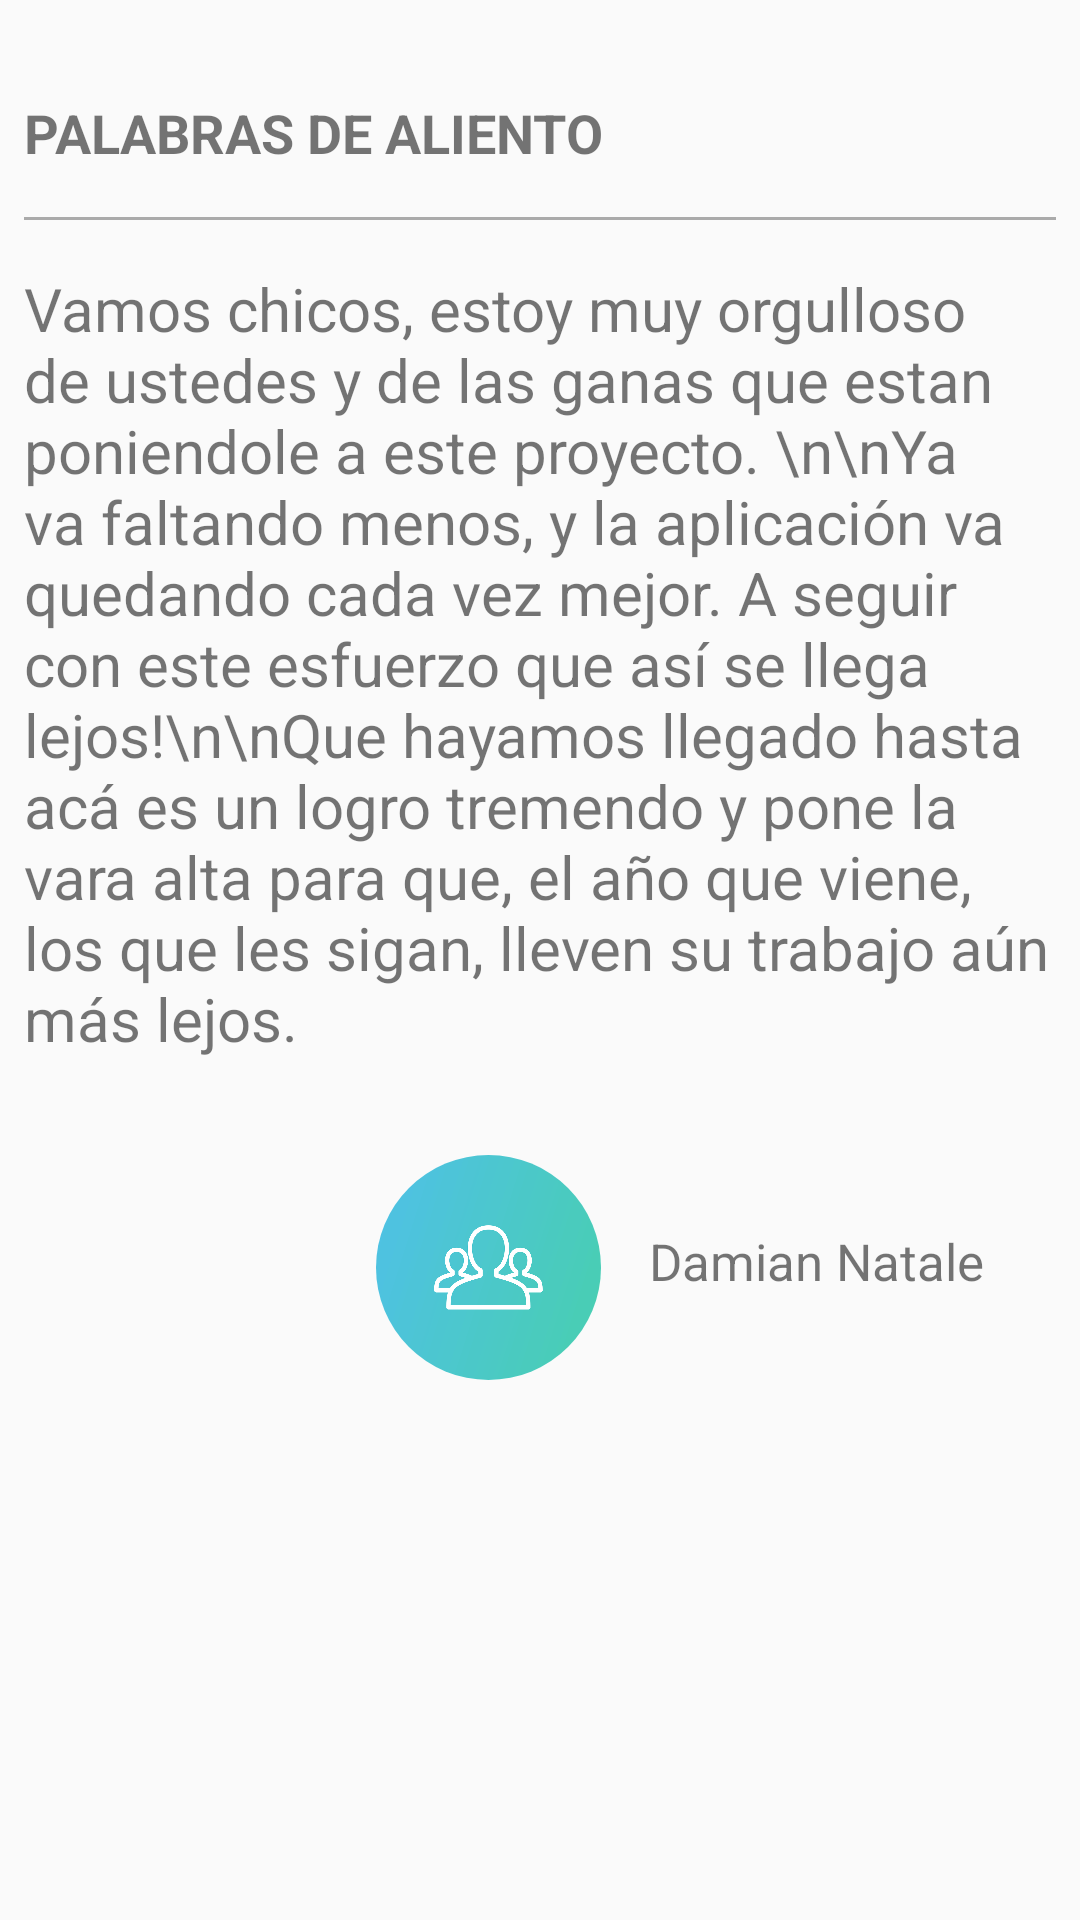

Point at icon controls on the screen. Image size 1080w x 1920h, points as (x=x, y=y).
user: (x=488, y=1267)
